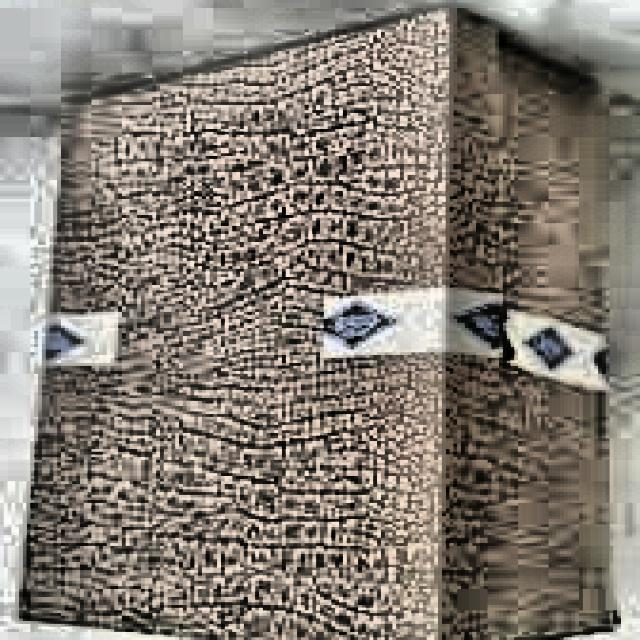cardboard: (11, 8, 621, 640)
